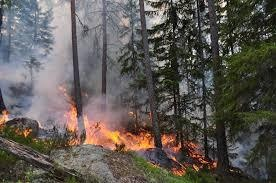fire: (65, 106, 217, 179)
